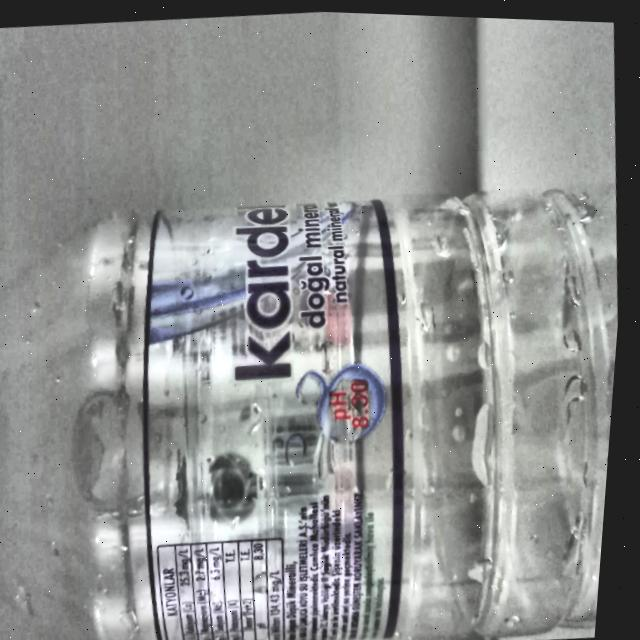plastic: (0, 179, 622, 640)
